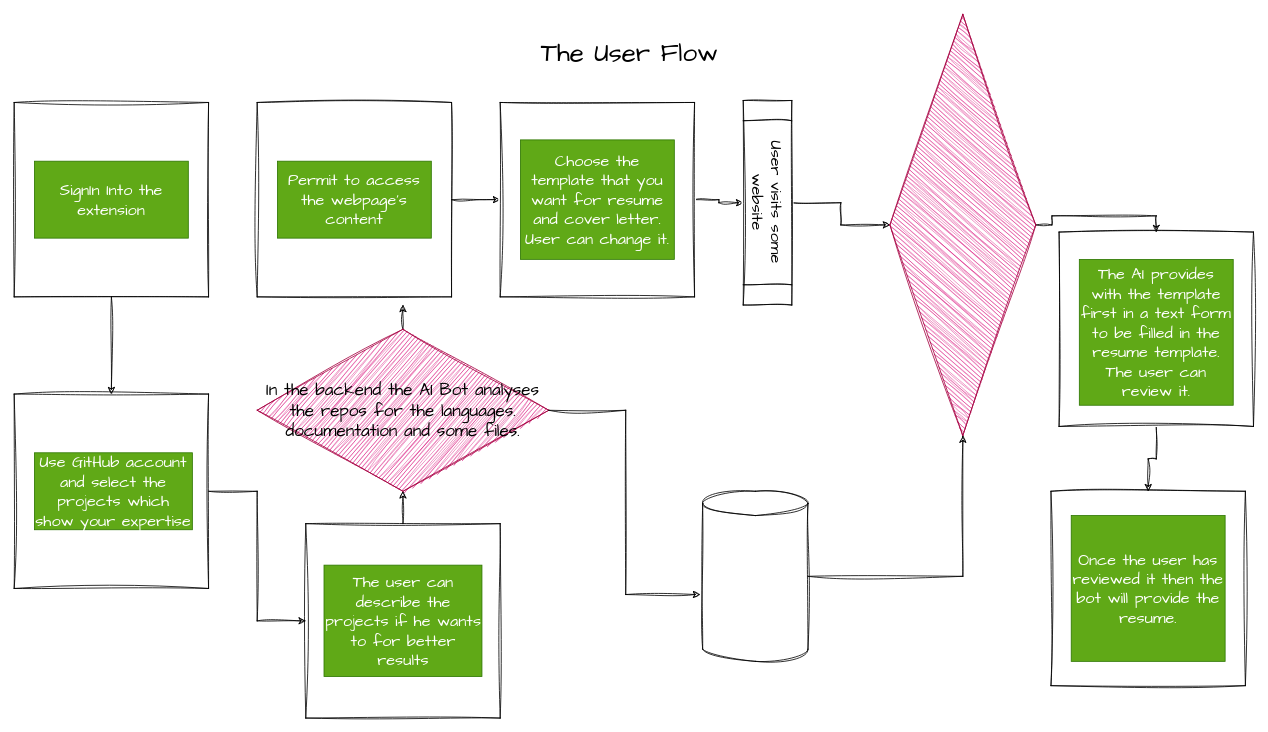
The diagram is 1268 pixels wide and 732 high, and some of its shapes have lost their labels. The shapes that lost their labels are listed below. From the top down, each one's centre as x and y in pixels, then its label:
(962,225): AI Bot analyses the scraped data and the user's stored data to craft a resume.
(755,575): Analysed data is stored in a database.
